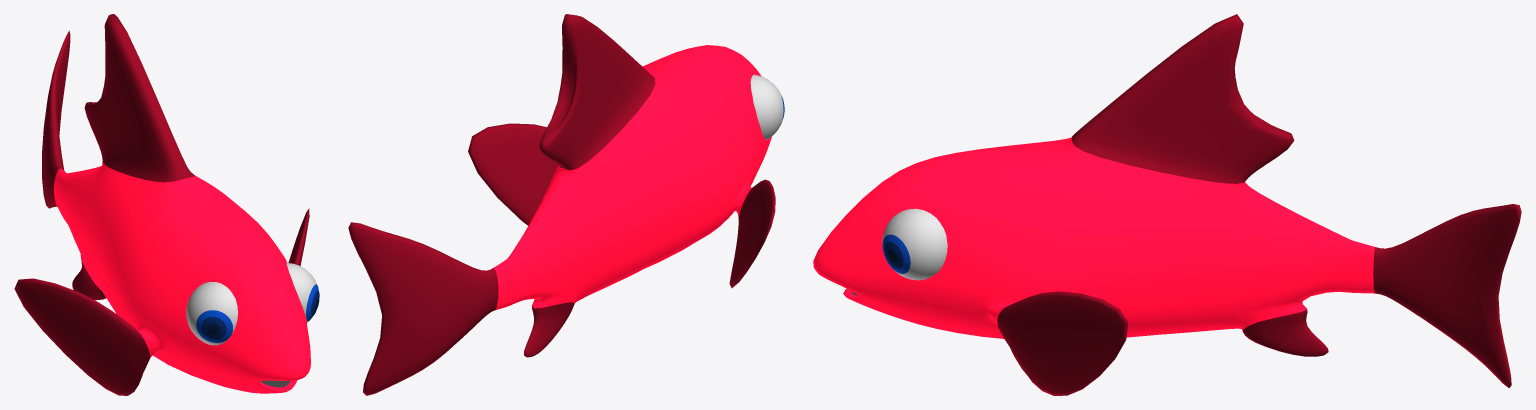
File: Reds on the pool table.fbx
3 views of the same model, side by side, from view 1: azimuth 30°, elevation 25°; view 2: azimuth 150°, elevation 25°; view 3: azimuth 270°, elevation 25° (orthographic). The views are drawn at different scales.
Visible parts, largest first — view 1: Cube, Sphere.002, Sphere, Sphere.001; view 2: Cube, Sphere.002, Sphere.003; view 3: Cube, Sphere.001, Sphere, Sphere.003.
Part boxes in pixels (x1=…): Cube: x1=14, y1=14, x2=310, y2=395; Sphere.002: x1=186, y1=272, x2=316, y2=345; Sphere: x1=202, y1=264, x2=319, y2=318; Sphere.001: x1=207, y1=283, x2=319, y2=344; Cube: x1=348, y1=14, x2=775, y2=395; Sphere.002: x1=752, y1=75, x2=784, y2=140; Sphere.003: x1=750, y1=77, x2=772, y2=136; Cube: x1=813, y1=14, x2=1521, y2=395; Sphere.001: x1=884, y1=241, x2=938, y2=280; Sphere: x1=889, y1=208, x2=925, y2=250; Sphere.003: x1=916, y1=209, x2=947, y2=272.
Size of the model in its own units: 425 by 423 by 797.
